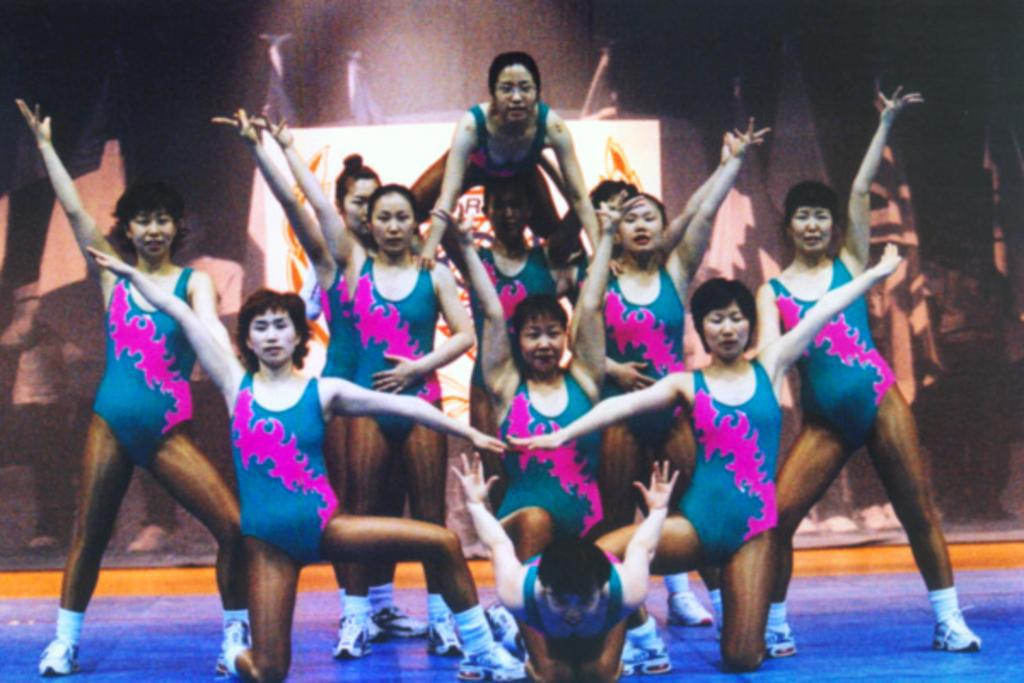face: (251, 307, 298, 365), (703, 302, 750, 359), (522, 316, 566, 374), (547, 581, 600, 628), (373, 197, 415, 253), (499, 64, 537, 124), (620, 199, 662, 252), (132, 212, 176, 258), (490, 188, 530, 238), (347, 179, 382, 234), (793, 205, 833, 253)
